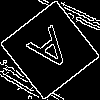A: (25, 25, 80, 83)
